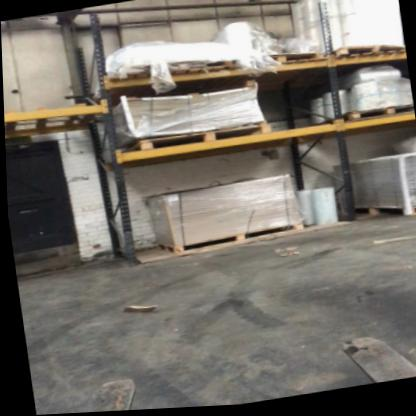vertical_damage: (118, 219, 136, 244)
